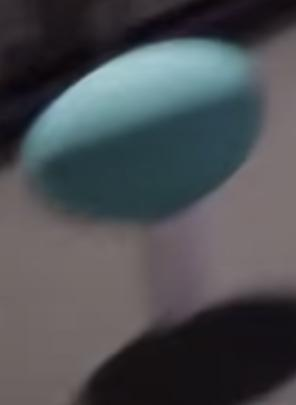algae: (17, 39, 265, 226)
coral: (150, 219, 205, 330)
